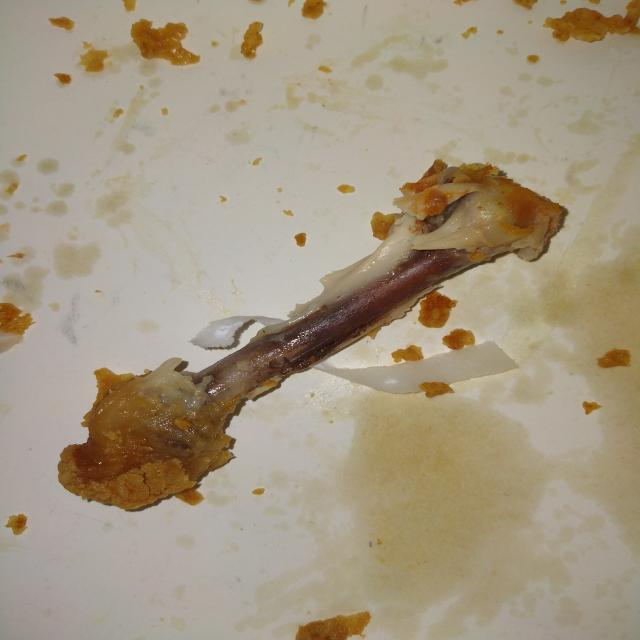paper: (52, 130, 587, 530)
